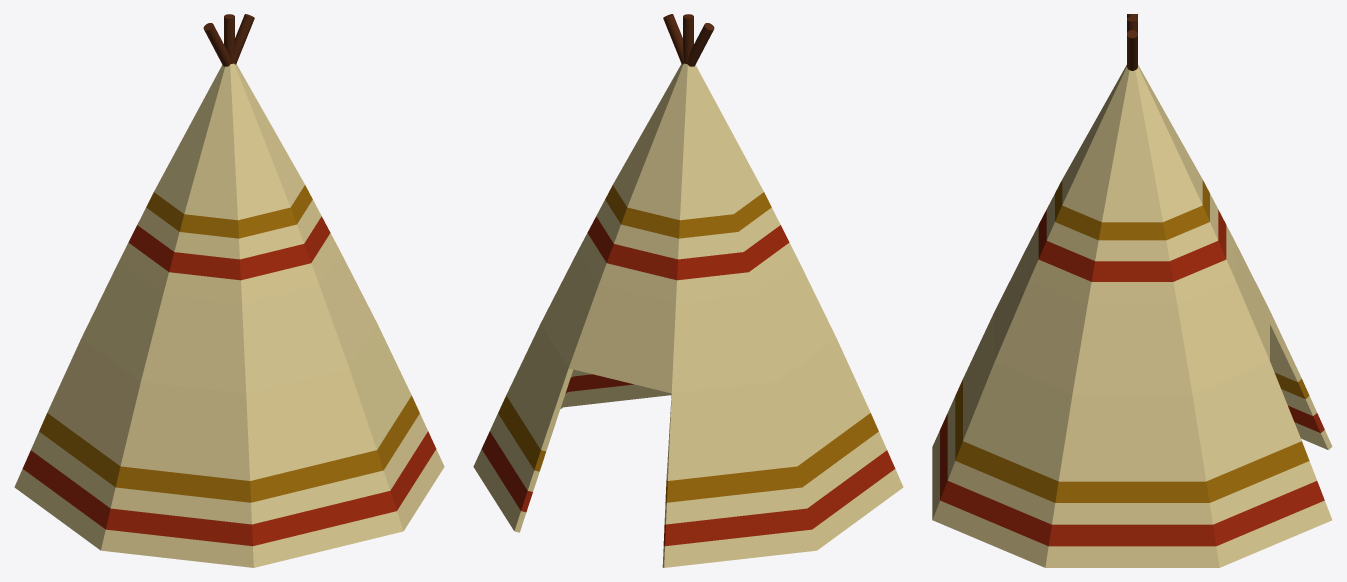
File: tipi.fbx
3 views of the same model, side by side, from view 1: azimuth 30°, elevation 25°; view 2: azimuth 150°, elevation 25°; view 3: azimuth 270°, elevation 25° (orthographic).
Visible parts, largest first — view 1: Tipi; view 2: Tipi; view 3: Tipi.
Part boxes in pixels (x1,y1,x2,y2): Tipi: (14,14,444,567); Tipi: (473,14,903,567); Tipi: (932,14,1332,567).
Size of the model in its own units: 387 by 498 by 387.
